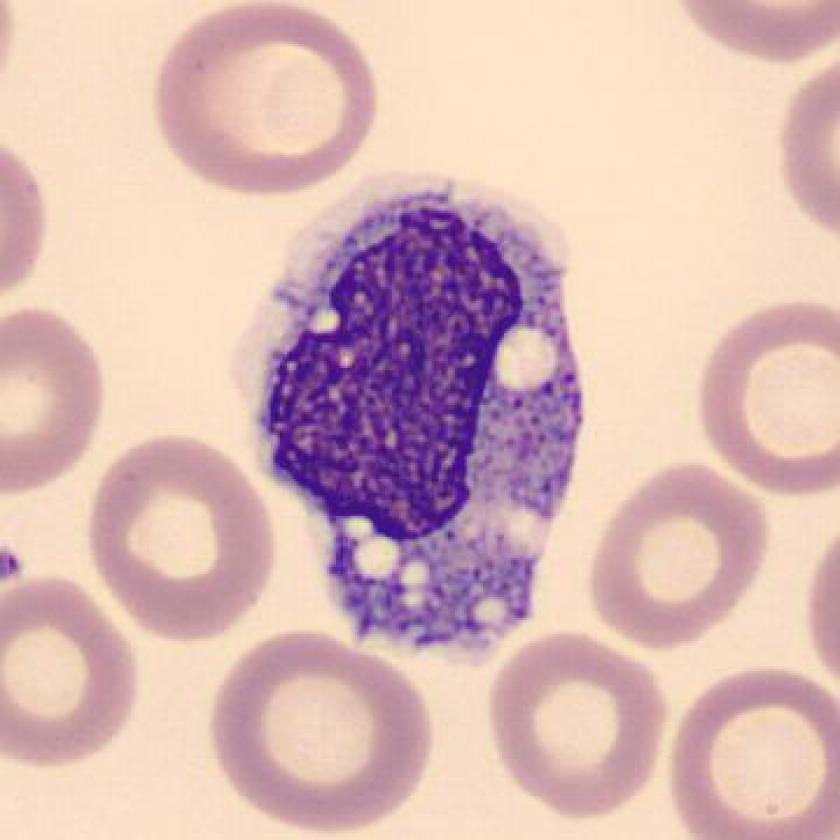monocyte: (218, 149, 622, 686)
